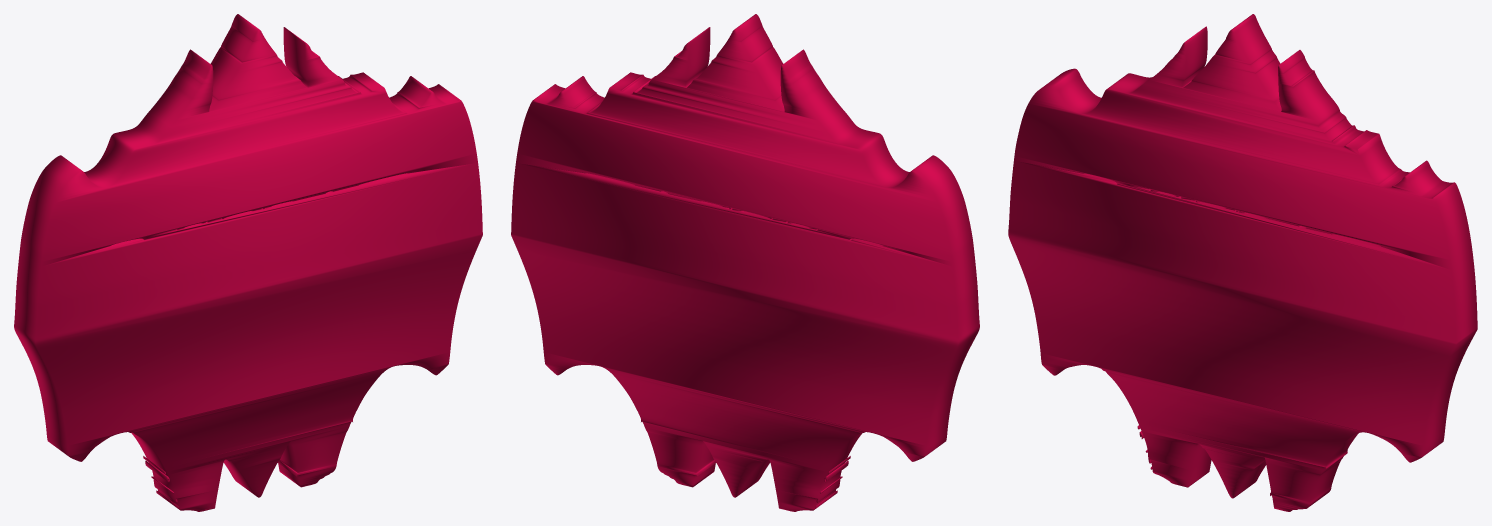
3 renders of one model, left to right at view 1: azimuth 30°, elevation 25°; view 2: azimuth 150°, elevation 25°; view 3: azimuth 330°, elevation 25°, orthographic.
Visible parts, largest first — view 1: Curve; view 2: Curve; view 3: Curve.
Part boxes in pixels (bbox=[...]): Curve: bbox=[14, 14, 482, 511]; Curve: bbox=[511, 14, 979, 511]; Curve: bbox=[1008, 14, 1477, 511].
Size of the model in its own units: 2.01 by 2.01 by 0.1664.
